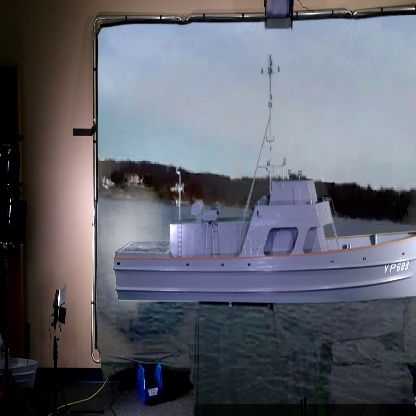YP689: (113, 45, 416, 303)
